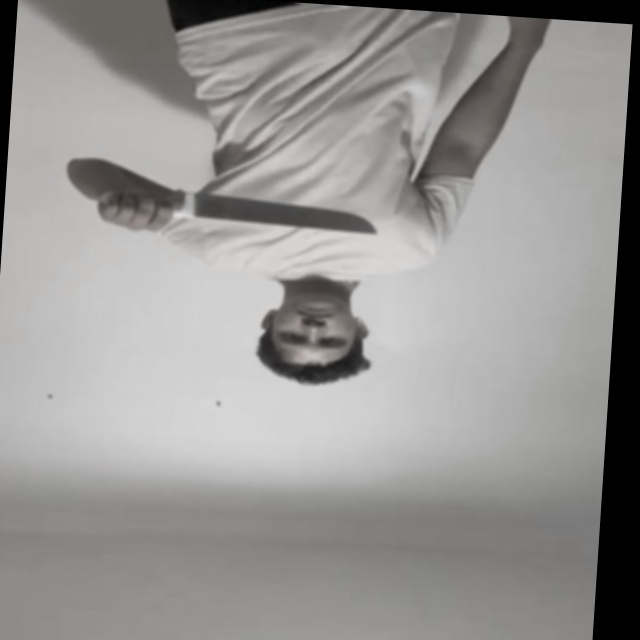Sharp-Object: (193, 191, 377, 237)
